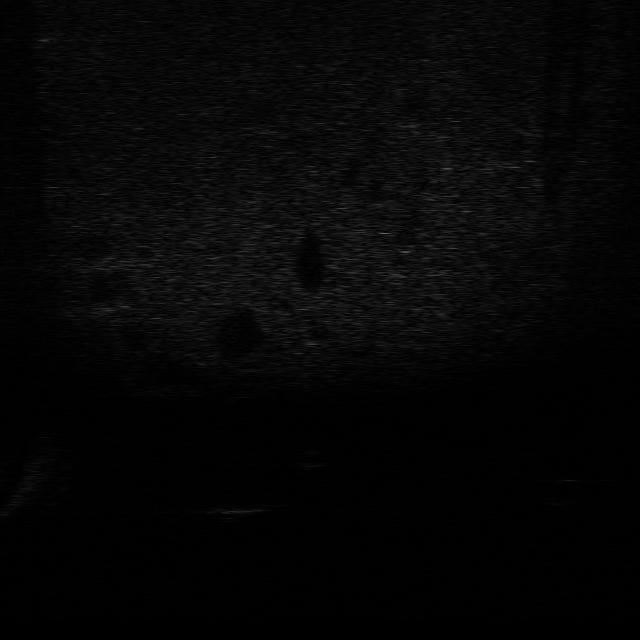ball: (285, 447, 331, 473)
square cage: (202, 493, 276, 525)
tyre: (535, 469, 589, 509)
